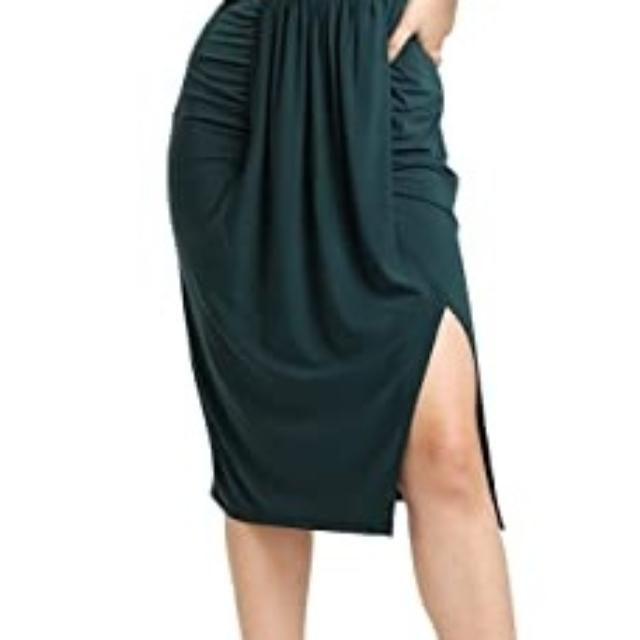polyester: (196, 1, 454, 353)
